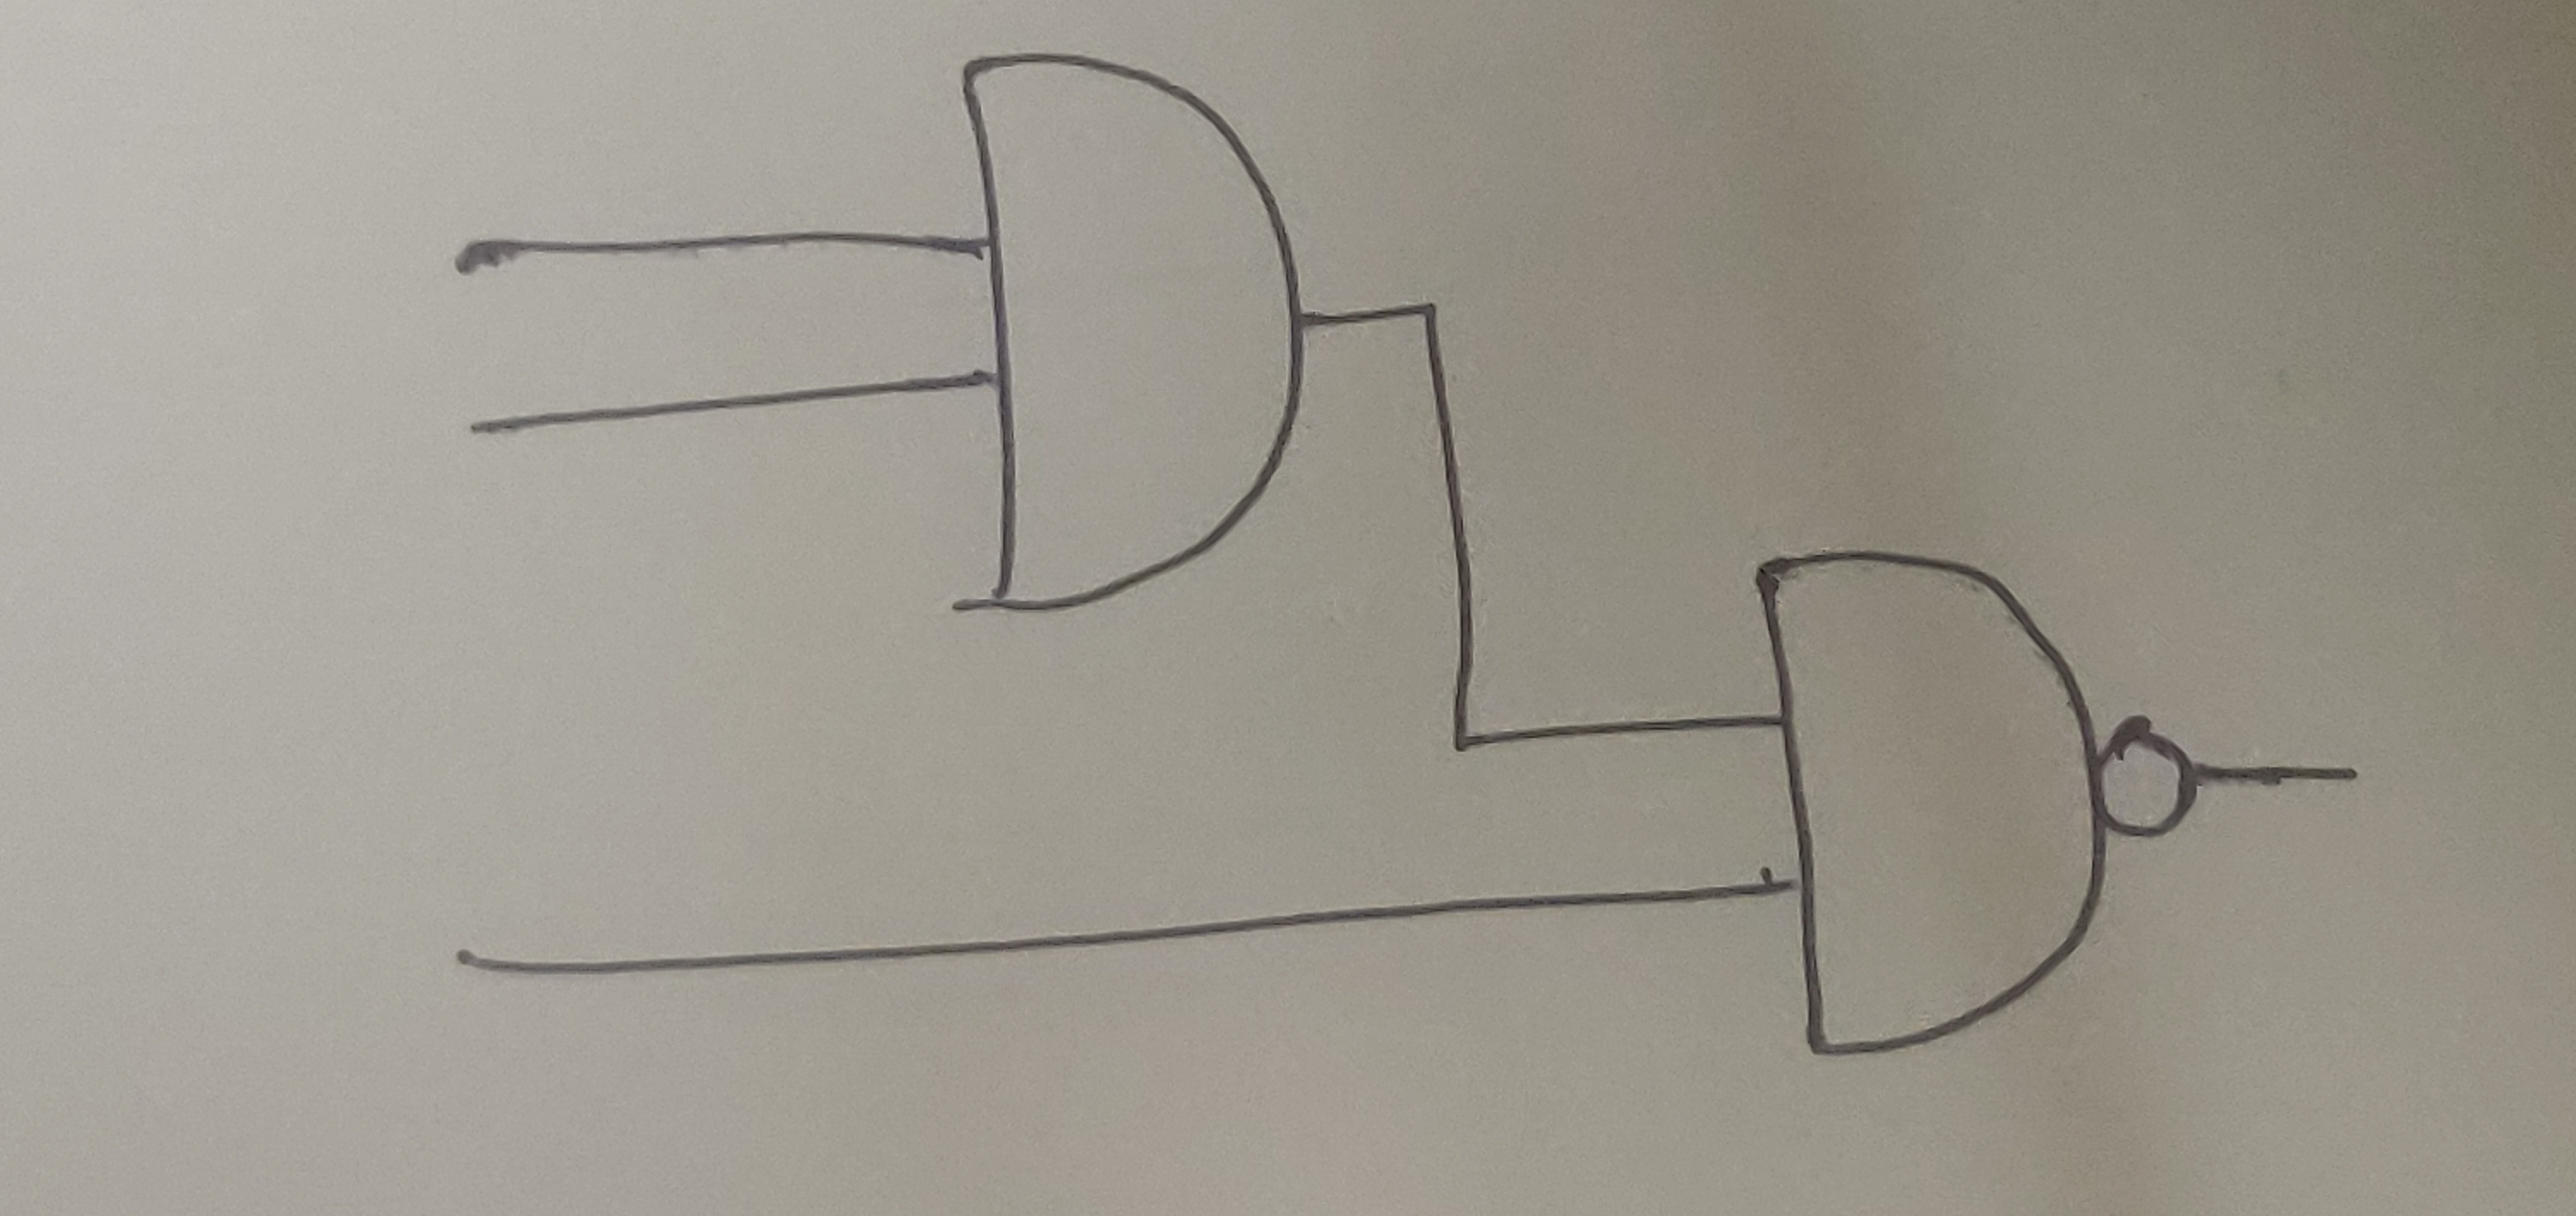and: (951, 53, 1314, 621), (1751, 546, 2113, 1058)
not: (2093, 726, 2198, 845)
